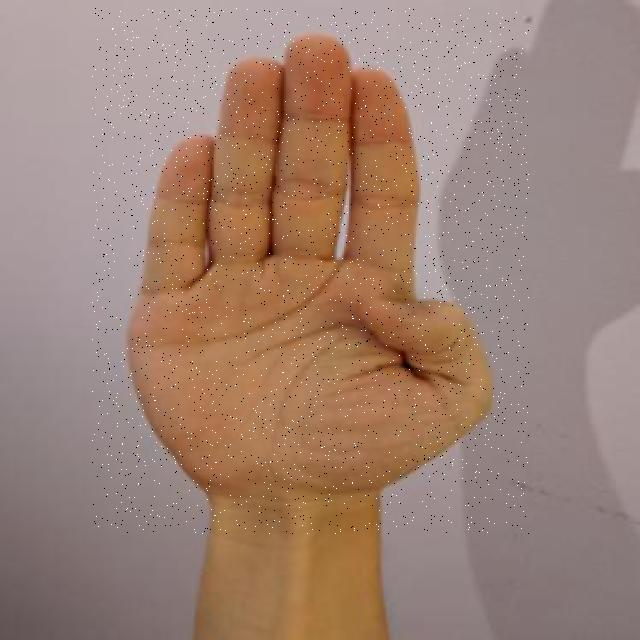B: (92, 8, 529, 534)
